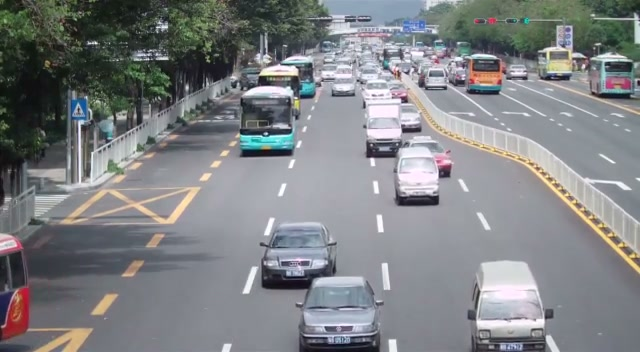bus: (238, 85, 297, 156), (0, 233, 32, 342), (257, 65, 301, 117), (588, 53, 635, 97), (466, 54, 504, 94), (281, 55, 315, 97), (537, 46, 573, 80), (330, 66, 357, 96)
car: (466, 259, 554, 352), (294, 276, 384, 352), (259, 221, 338, 287), (393, 147, 440, 206), (402, 137, 454, 178), (364, 116, 403, 157), (398, 104, 423, 133), (331, 68, 356, 96), (423, 67, 448, 91), (388, 82, 410, 103), (507, 62, 528, 81)
truck: (466, 259, 555, 352)
